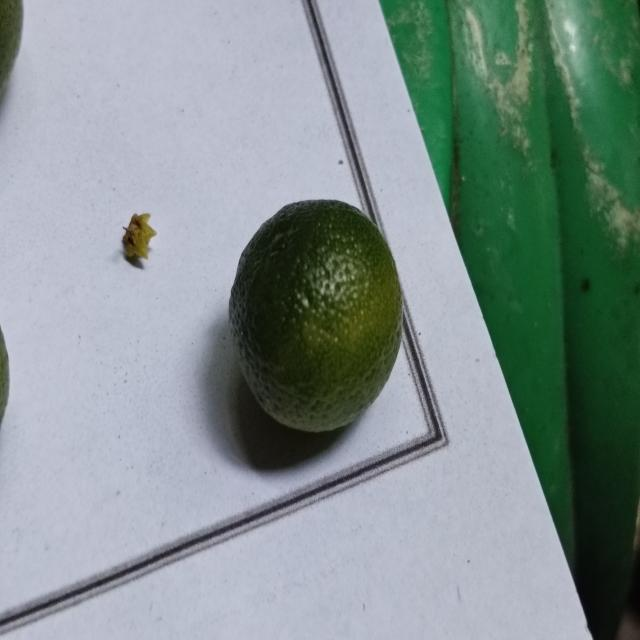heathy: (228, 195, 408, 441)
